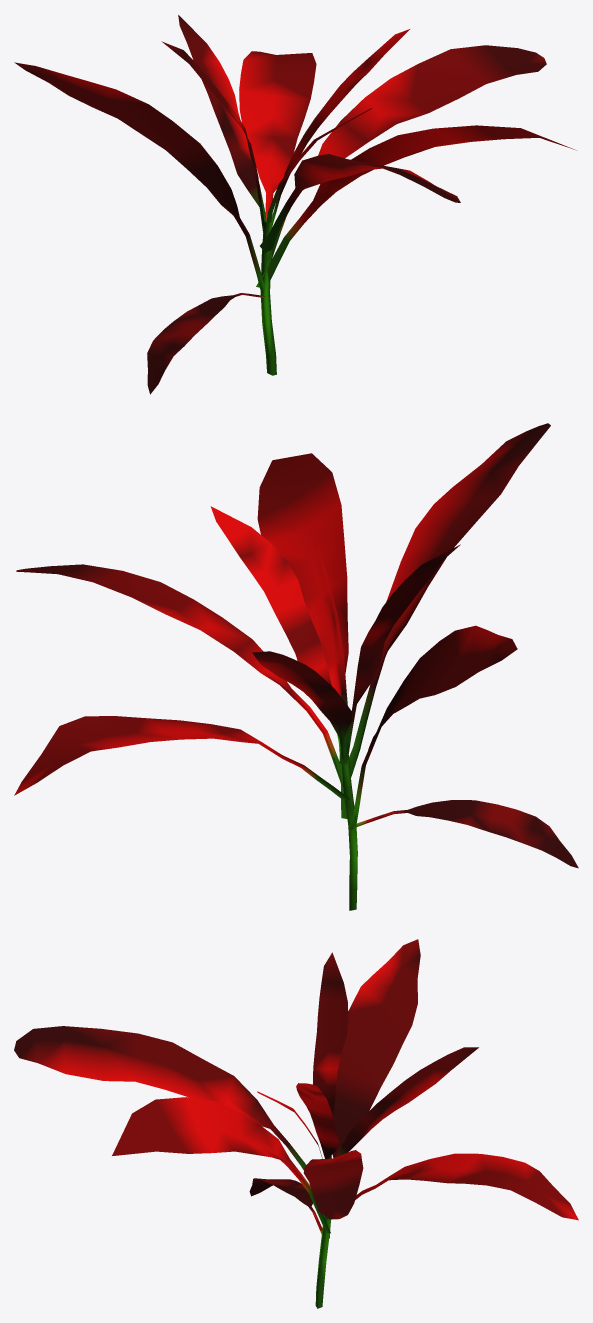
Rendered from Var9_LOD0.fbx.
3 views of the same model, one above another, from view 1: azimuth 30°, elevation 25°; view 2: azimuth 150°, elevation 25°; view 3: azimuth 270°, elevation 25° (orthographic). The views are drawn at different scales.
Visible parts, largest first — view 1: _b3c9_Var9_LOD0; view 2: _b3c9_Var9_LOD0; view 3: _b3c9_Var9_LOD0.
Part boxes in pixels (x1=…): _b3c9_Var9_LOD0: x1=14, y1=15, x2=576, y2=394; _b3c9_Var9_LOD0: x1=14, y1=423, x2=578, y2=910; _b3c9_Var9_LOD0: x1=14, y1=939, x2=578, y2=1308.
Size of the model in its own units: 37.79 by 26.28 by 43.32.
